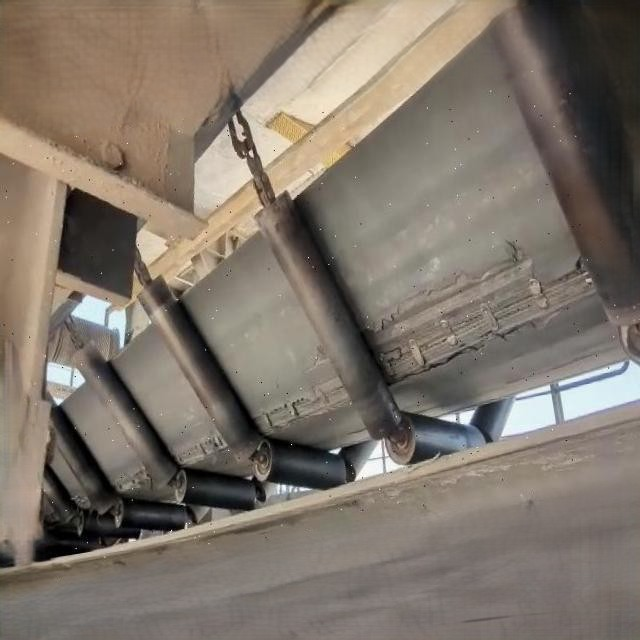Tear: (364, 236, 598, 386), (252, 343, 350, 438), (172, 420, 227, 473), (113, 460, 155, 497)
